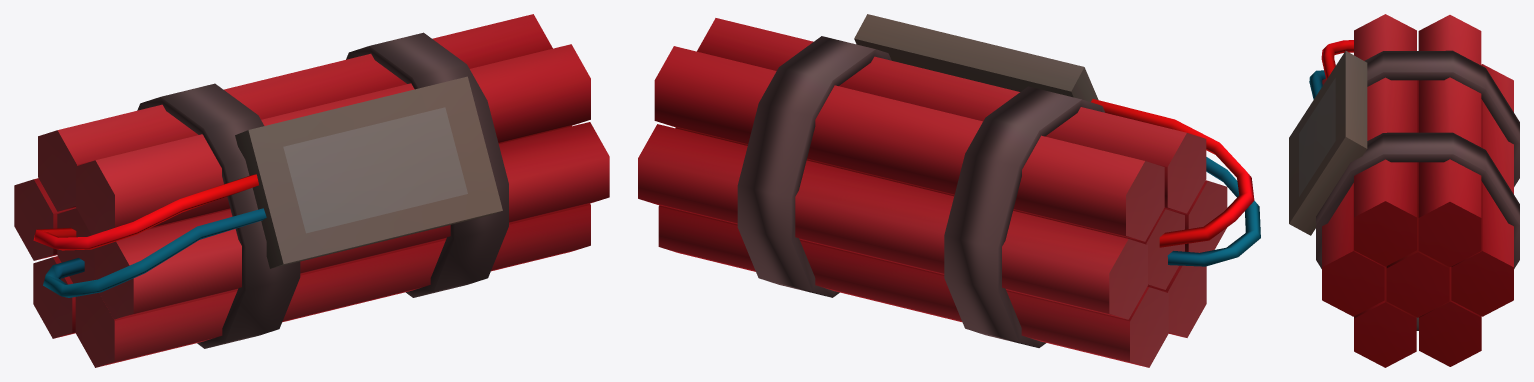
File: dynamite.fbx
The picture shows the model from 3 angles, left to right: view 1: azimuth 30°, elevation 25°; view 2: azimuth 150°, elevation 25°; view 3: azimuth 270°, elevation 25°; orthographic projection. The views are drawn at different scales.
Parts seen in each view (by area): view 1: dynamite; view 2: dynamite; view 3: dynamite.
Part boxes in pixels (x1,y1,x2,y2): dynamite: (14,14,609,367); dynamite: (638,14,1260,367); dynamite: (1289,14,1519,367).
Bounding box in the file's own units: 25.19 × 10.4 × 11.74.
